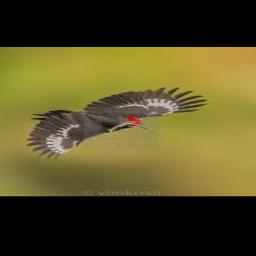Woodpecker: (25, 87, 208, 159)
